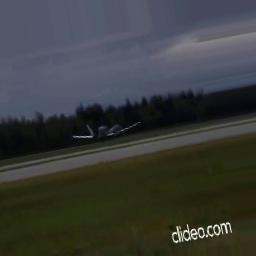ghawk: (71, 120, 147, 148)
